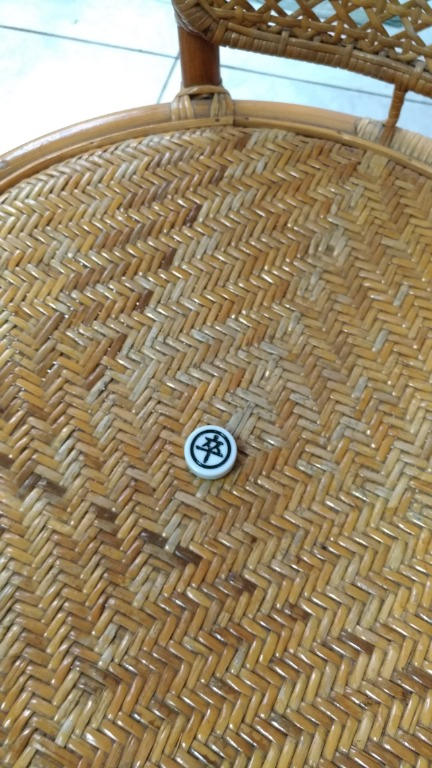b-pawn: (170, 417, 256, 488)
